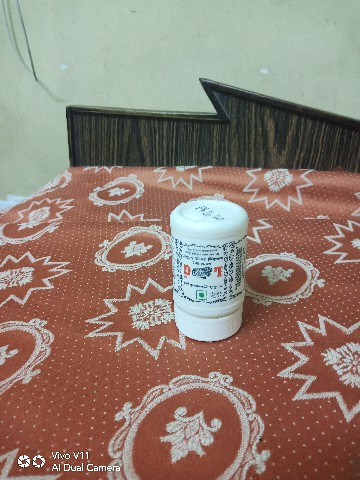lgasafoetidapowder small: (152, 186, 256, 348)
